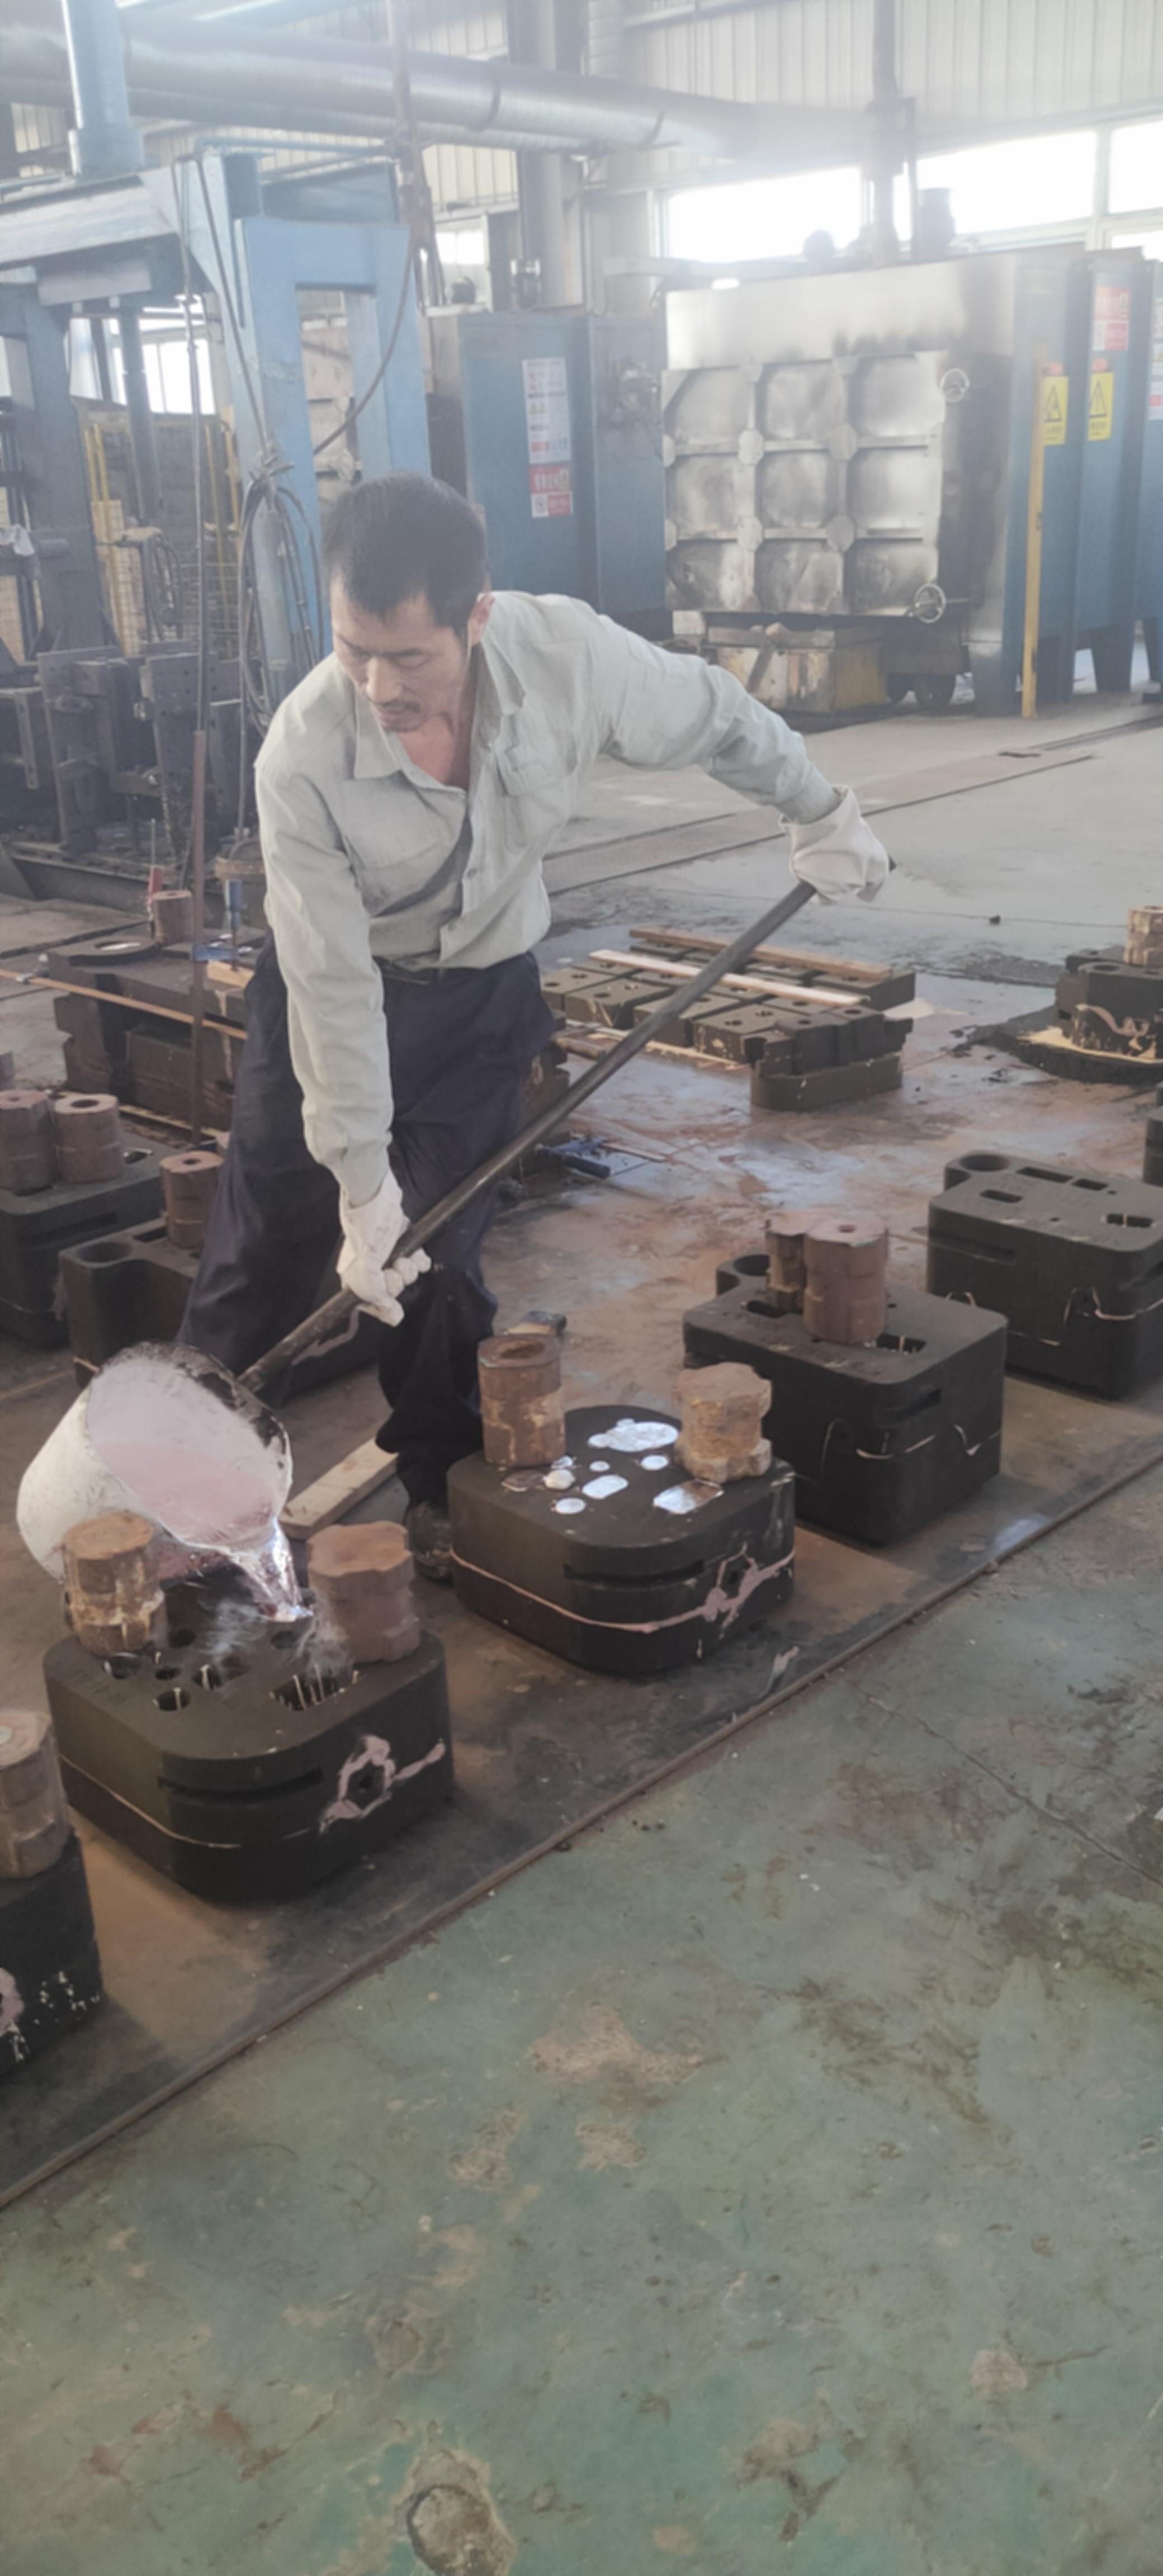pouring hole: (253, 1582, 322, 1622), (72, 1239, 136, 1265), (626, 1421, 678, 1451), (958, 1152, 1012, 1173), (733, 1253, 779, 1278), (94, 936, 141, 953), (1089, 963, 1120, 974), (756, 976, 780, 989), (723, 1019, 744, 1027), (729, 986, 747, 994), (793, 1001, 810, 1009), (591, 992, 611, 999), (692, 996, 711, 1002), (601, 961, 616, 969), (626, 982, 641, 991), (542, 981, 560, 987), (570, 973, 588, 979), (756, 1010, 774, 1017), (660, 973, 677, 979), (844, 976, 861, 982), (775, 963, 790, 969), (711, 951, 723, 958), (659, 943, 670, 946)
